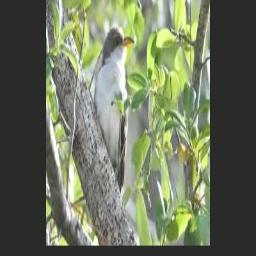Cuckoo: (94, 25, 134, 194)
